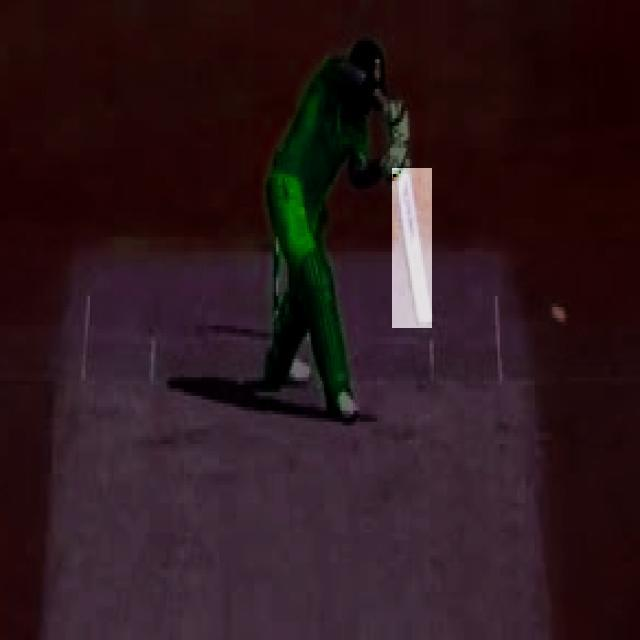bat: (393, 169, 431, 328)
toe: (419, 319, 436, 332)
